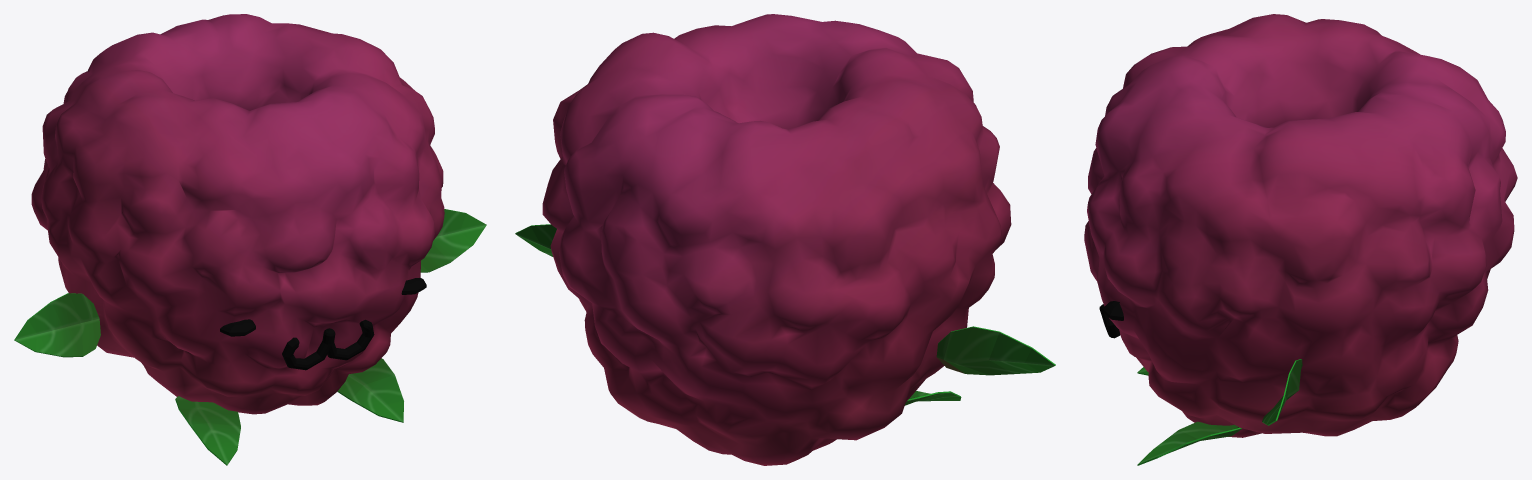
File: RaspBerry_Model.fbx
The picture shows the model from 3 angles, left to right: view 1: azimuth 30°, elevation 25°; view 2: azimuth 150°, elevation 25°; view 3: azimuth 270°, elevation 25°; orthographic projection. The views are drawn at different scales.
Visible parts, largest first — view 1: Mesh, Sphere.002, Sphere.001; view 2: Mesh, Sphere.002; view 3: Mesh, Sphere.002, Sphere.001.
Part boxes in pixels (x1,y1,x2,y2): Mesh: (31, 14, 444, 414); Sphere.002: (14, 209, 486, 465); Sphere.001: (220, 277, 426, 370); Mesh: (542, 14, 1011, 465); Sphere.002: (515, 224, 1055, 405); Mesh: (1084, 14, 1517, 437); Sphere.002: (1137, 359, 1302, 465); Sphere.001: (1099, 301, 1123, 338).
Size of the model in its own units: 295 by 196 by 218.
Materials: 1 (1 with a texture image).
